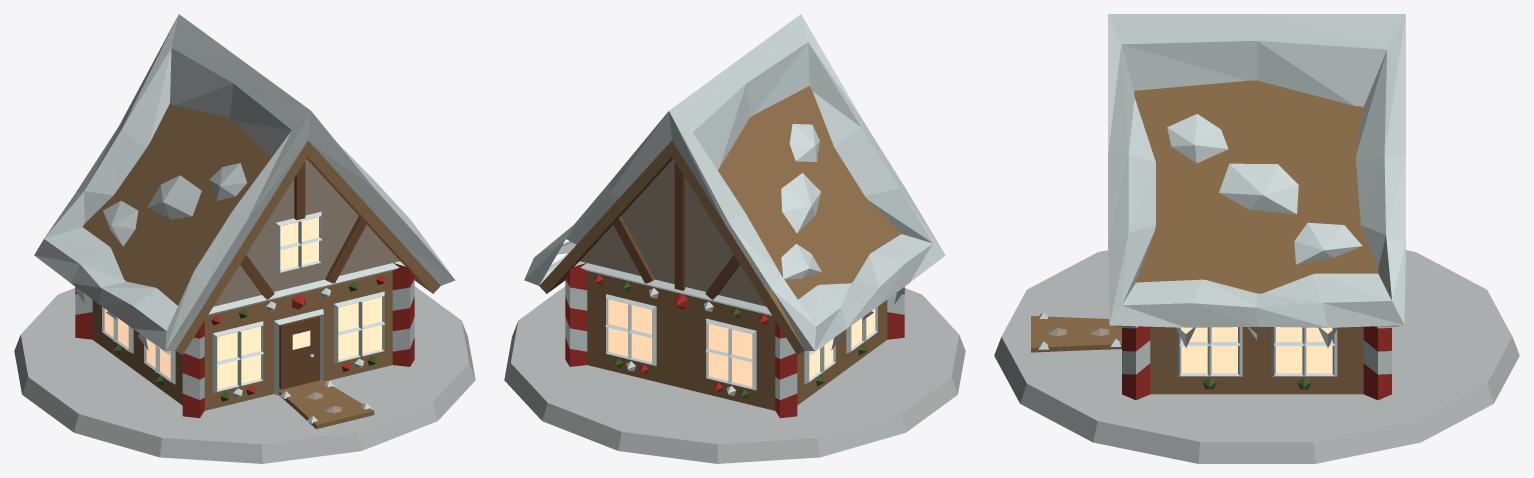
The model's file is gingerbread-house-8b9049.glb.
3 renders of one model, left to right at view 1: azimuth 30°, elevation 25°; view 2: azimuth 150°, elevation 25°; view 3: azimuth 270°, elevation 25°, orthographic. The views are drawn at different scales.
Parts seen in each view (by area): view 1: gingerbread-house-body, sugar-glass-lit; view 2: gingerbread-house-body, sugar-glass-lit; view 3: gingerbread-house-body, sugar-glass-lit.
Boxes of the visible parts, <box> form: gingerbread-house-body: <box>14,14,475,463</box>; sugar-glass-lit: <box>104,217,381,389</box>; gingerbread-house-body: <box>504,14,965,463</box>; sugar-glass-lit: <box>608,299,875,386</box>; gingerbread-house-body: <box>994,14,1519,463</box>; sugar-glass-lit: <box>1181,327,1332,373</box>.
Size of the model in its own units: 0.4875 by 0.3585 by 0.5.
